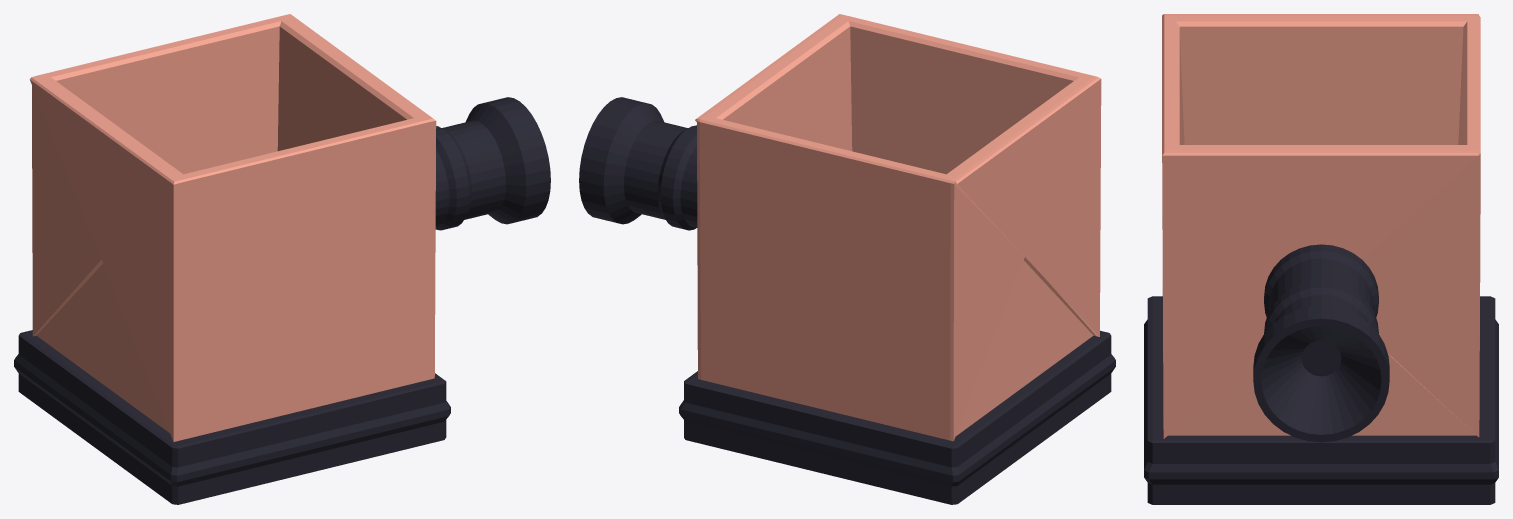
File: scouttank.fbx
3 renders of one model, left to right at view 1: azimuth 30°, elevation 25°; view 2: azimuth 150°, elevation 25°; view 3: azimuth 270°, elevation 25°, orthographic. The views are drawn at different scales.
Visible parts, largest first — view 1: Cube, Cube.001, Circle; view 2: Cube, Cube.001, Circle; view 3: Cube, Cube.001, Circle.
Part boxes in pixels (x1,y1,x2,y2): Cube: (29, 14, 436, 441); Cube.001: (14, 330, 450, 504); Circle: (435, 97, 550, 230); Cube: (695, 14, 1101, 441); Cube.001: (679, 330, 1115, 504); Circle: (579, 97, 697, 230); Cube: (1162, 14, 1480, 438); Cube.001: (1144, 296, 1498, 504); Circle: (1253, 244, 1389, 442).
Bounding box in the file's own units: 790 × 561 × 517.
